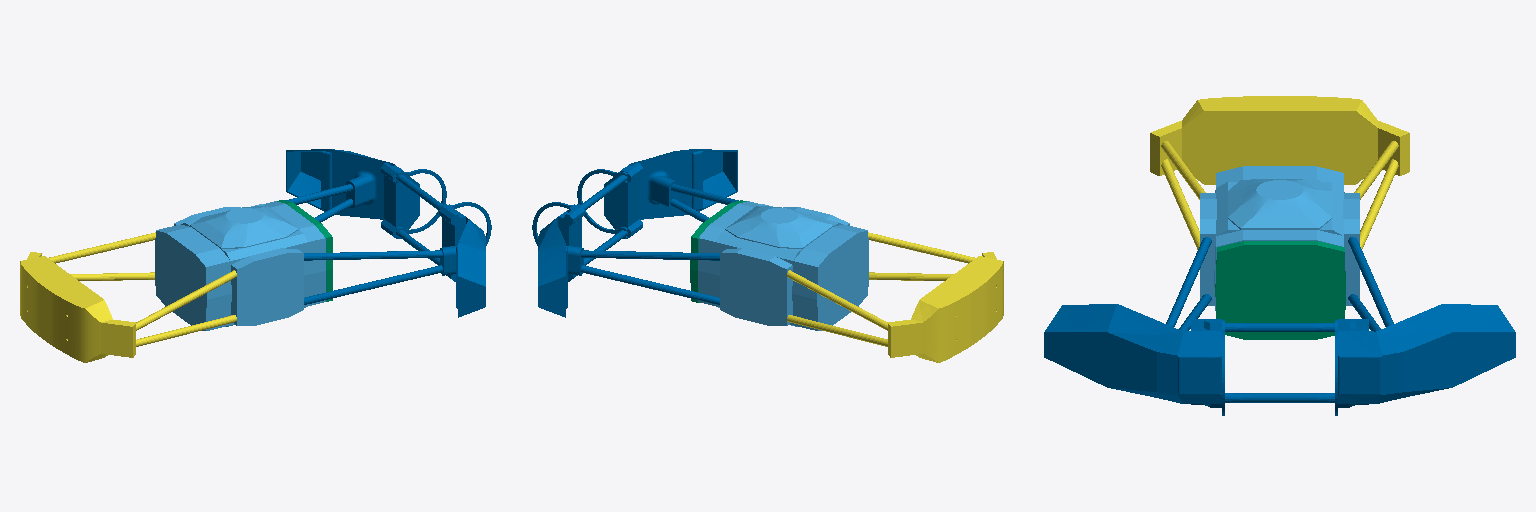
robot.urdf — asio:
<?xml version='1.0' encoding='utf-8'?>
<robot name="asio">
    <link name="base_link" />

    <link name="Parte_Central">
        <inertial>
            <origin xyz="-1.1374312268591253e-17 1.7061468402886883e-17 8.965081071660529e-08" rpy="0.0 0.0 0.0" />
            <mass value="3.138446193635996" />
            <inertia ixx="0.004785506665265726" iyy="0.005508865066852597" izz="0.004518252365516609" ixy="4.283720045350491e-18" iyz="4.283724845837679e-18" ixz="5.711623526809198e-18" />
        </inertial>
        <visual name="Parte_Central_visual">
            <origin xyz="0.0 0.0 0.0" rpy="0.0 0.0 0.0" />
            <geometry>
                <mesh filename="package://asio/meshes/Parte_Central.stl" scale="0.001 0.001 0.001" />
            </geometry>
        </visual>
        <collision name="Parte_Central_collision">
            <origin xyz="0.0 0.0 0.0" rpy="0.0 0.0 0.0" />
            <geometry>
                <mesh filename="package://asio/meshes/Parte_Central.stl" scale="0.001 0.001 0.001" />
            </geometry>
        </collision>
    </link>
    
    <link name="Bateria">
        <inertial>
            <origin xyz="-0.04150000000000005 0.032974999999999983 0.04328428018771682" rpy="0.0 0.0 0.0" />
            <mass value="2.010476962717196" />
            <inertia ixx="0.0019164616413558865" iyy="0.002349164303793374" izz="0.0010775980951593335" ixy="7.345625586927895e-19" iyz="6.128232367052389e-19" ixz="3.335338449455067e-18" />
        </inertial>
        <visual name="Bateria_visual">
            <origin xyz="0.0 0.0 0.0" rpy="0.0 0.0 0.0" />
            <geometry>
                <mesh filename="package://asio/meshes/Bateria.stl" scale="0.001 0.001 0.001" />
            </geometry>
        </visual>
        <collision name="Bateria_collision">
            <origin xyz="0.0 0.0 0.0" rpy="0.0 0.0 0.0" />
            <geometry>
                <mesh filename="package://asio/meshes/Bateria.stl" scale="0.001 0.001 0.001" />
            </geometry>
        </collision>
    </link>

    <link name="Parte_Posterior">
        <inertial>
            <origin xyz="-2.7071668186428414e-17 1.9351245627905367e-09 -0.15101119979291508" rpy="0.0 0.0 0.0" />
            <mass value="1.318635659936295" />
            <inertia ixx="0.0010531683287138202" iyy="0.002797674984292977" izz="0.0022417941507662563" ixy="-1.0709300804170552e-18" iyz="4.048066801811789e-11" ixz="-3.1766925604898303e-18" />
        </inertial>
        <visual name="Parte_Posterior_visual">
            <origin xyz="0.0 0.0 0.0" rpy="0.0 0.0 0.0" />
            <geometry>
                <mesh filename="package://asio/meshes/Parte_Posterior.stl" scale="0.001 0.001 0.001" />
            </geometry>
        </visual>
        <collision name="Parte_Posterior_collision">
            <origin xyz="0.0 0.0 0.0" rpy="0.0 0.0 0.0" />
            <geometry>
                <mesh filename="package://asio/meshes/Parte_Posterior.stl" scale="0.001 0.001 0.001" />
            </geometry>
        </collision>
    </link>

    <link name="Parte_Frontal">
        <inertial>
            <origin xyz="-0.07175107287933148 -0.006237280533320282 -0.10689260849430499" rpy="0.0 2.7755575615628914e-17 0.0" />
            <mass value="0.5204162956573936" />
            <inertia ixx="0.0009635131587760126" iyy="0.0039137114365482275" izz="0.003227132755260805" ixy="1.4863595410567824e-05" iyz="6.481996071699037e-05" ixz="0.0005478687678166486" />
        </inertial>
        <visual name="Parte_Frontal_visual">
            <origin xyz="-0.03744581163907984 -0.02422996054042262 0.04256357552446358" rpy="3.025188689399567 -0.2254090023095731 3.141592653589793" />
            <geometry>
                <mesh filename="package://asio/meshes/Parte_Frontal.stl" scale="0.001 0.001 0.001" />
            </geometry>
        </visual>
        <collision name="Parte_Frontal_collision">
            <origin xyz="-0.03744581163907984 -0.02422996054042262 0.04256357552446358" rpy="3.025188689399567 -0.2254090023095731 3.141592653589793" />
            <geometry>
                <mesh filename="package://asio/meshes/Parte_Frontal.stl" scale="0.001 0.001 0.001" />
            </geometry>
        </collision>
    </link>

    <joint name="base_to_central" type="fixed">
        <parent link="base_link" />
        <child link="Parte_Central" />
        <origin xyz="0 0 0" rpy="-1.570796327 -3.14159265359 -1.570796327" />
    </joint>

    <joint name="Parte_Central_E_Bateria" type="fixed">
        <origin xyz="-0.04098 -0.0334 0.070" rpy="3.14159265359 -0.0 3.14159265359" />
        <parent link="Parte_Central" />
        <child link="Bateria" />
    </joint>
 
    
    <joint name="Parte_Central_E_Parte_Frontal" type="fixed">
        <origin xyz="-0.04601171 0.020219680000000004 0.03570749" rpy="3.0221958394403727 0.22385749744281186 3.1149670769656055" />
        <parent link="Parte_Central" />
        <child link="Parte_Frontal" />
    </joint>

    <joint name="Parte_Central_E_Parte_Posterior" type="fixed">
        <origin xyz="0.0 0.0 0.0" rpy="0 0 3.14159265359" />
        <parent link="Parte_Central" />
        <child link="Parte_Posterior" />
    </joint>
</robot>

--- What the picture shows (computed from the rendered views, not written in the file) ---
3 views of the same robot in one strip: view 1: azimuth 30°, elevation 25°; view 2: azimuth 150°, elevation 25°; view 3: azimuth 270°, elevation 25° (orthographic).
Robot: asio — 5 links, 4 joints (4 fixed); root link base_link; default pose: every joint at zero.
Links seen in each view (by area): view 1: Parte_Central, Parte_Frontal, Parte_Posterior, Bateria; view 2: Parte_Central, Parte_Frontal, Parte_Posterior, Bateria; view 3: Parte_Frontal, Parte_Posterior, Parte_Central, Bateria.
Boxes of the visible links, bbox=[...] form: Parte_Central: bbox=[155, 201, 325, 330]; Parte_Frontal: bbox=[286, 149, 491, 317]; Parte_Posterior: bbox=[20, 232, 236, 362]; Bateria: bbox=[277, 200, 332, 301]; Parte_Central: bbox=[698, 201, 868, 330]; Parte_Frontal: bbox=[532, 149, 738, 317]; Parte_Posterior: bbox=[787, 232, 1003, 362]; Bateria: bbox=[690, 200, 746, 302]; Parte_Frontal: bbox=[1044, 237, 1515, 415]; Parte_Posterior: bbox=[1150, 96, 1409, 249]; Parte_Central: bbox=[1200, 166, 1359, 310]; Bateria: bbox=[1215, 241, 1345, 339].
Size in the robot's own frame: 0.3928 by 0.2986 by 0.0879 metres.
4 mesh visuals loaded from 4 distinct referenced files (4 binary STL).
